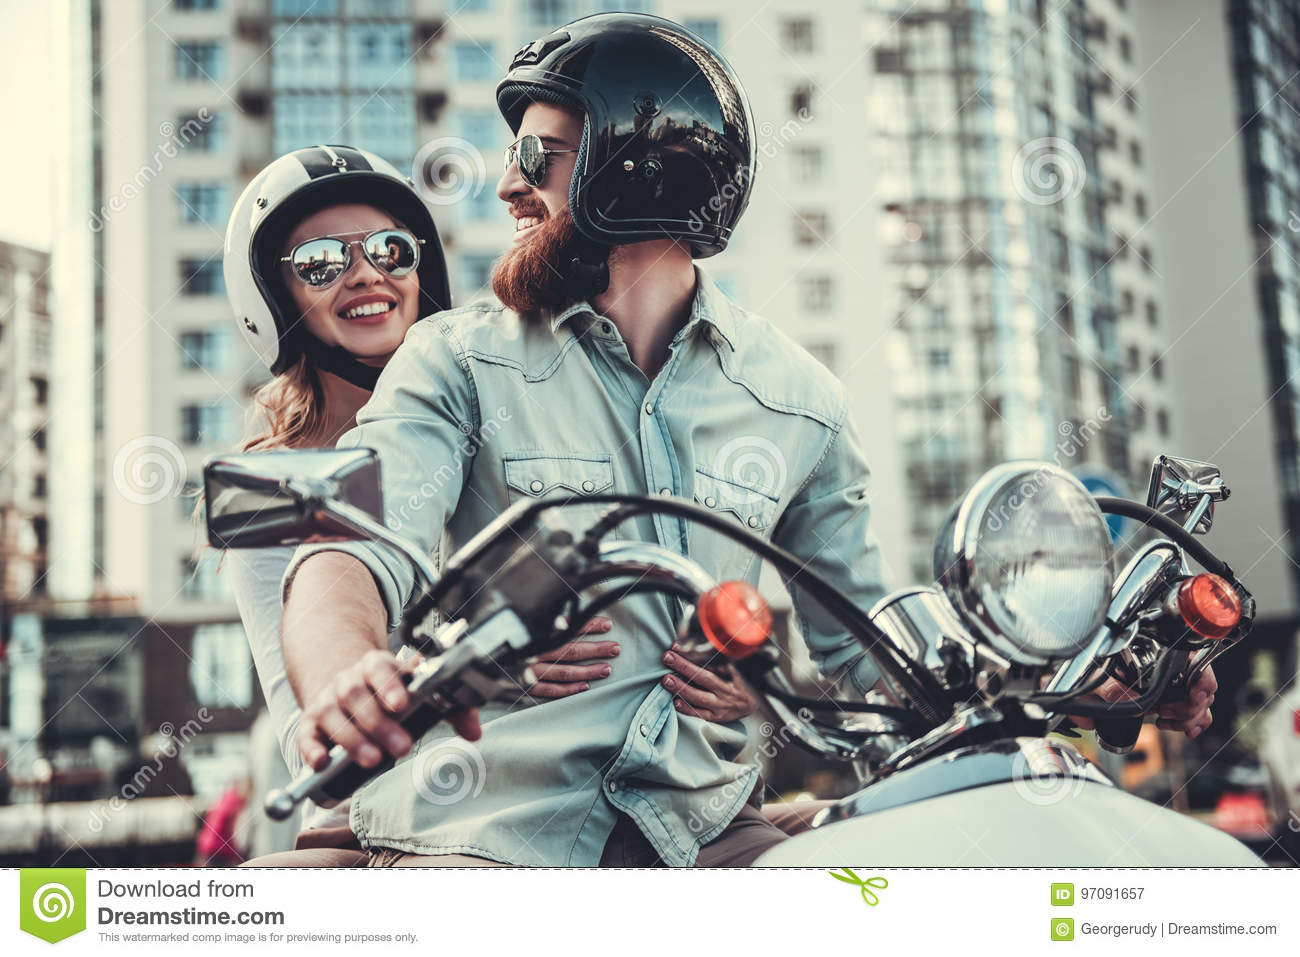helmet: (511, 24, 761, 260), (205, 148, 440, 332)
